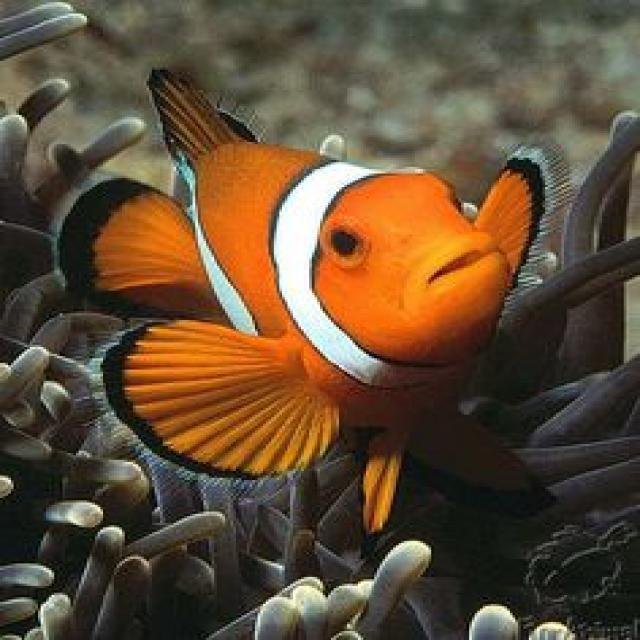ClownFish: (67, 86, 545, 482)
